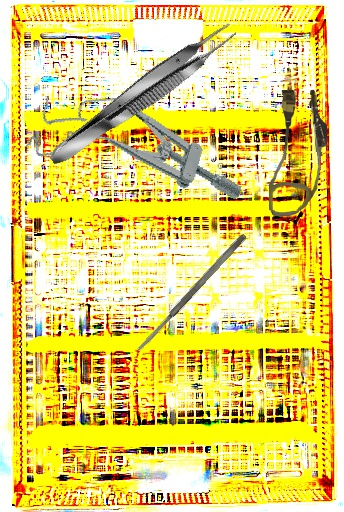Cannula: (267, 88, 329, 217)
Spatula Surgical: (132, 232, 249, 355)
Speculum: (24, 77, 256, 216)
Tissue Forceps: (41, 15, 243, 173)
